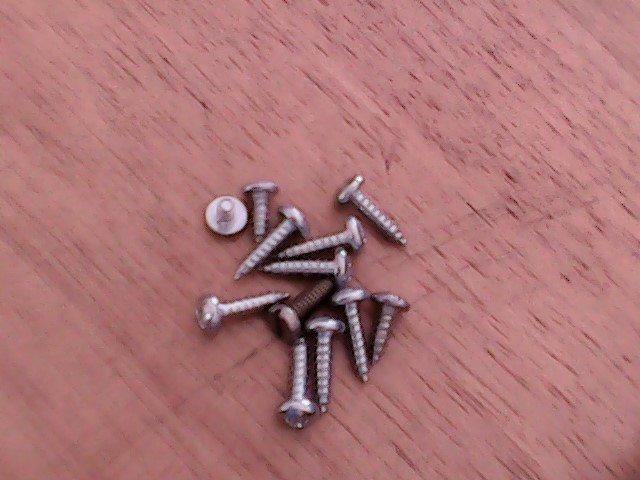Metal: (187, 170, 439, 437)
